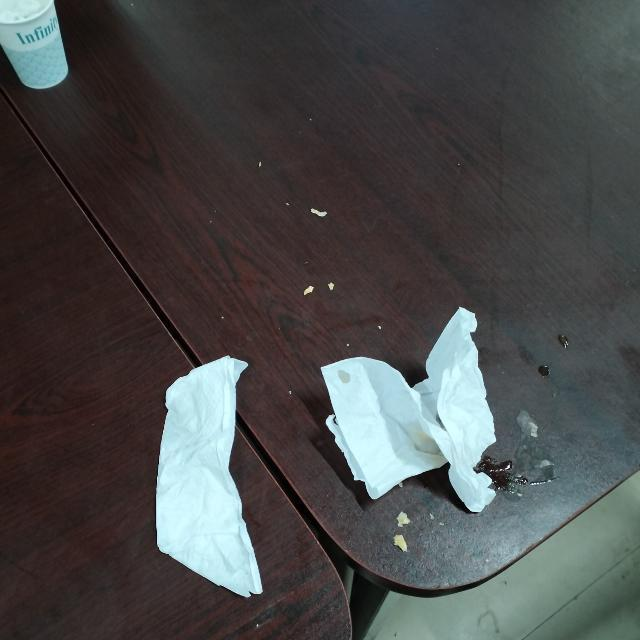kitchen paper: (314, 302, 501, 516), (149, 351, 269, 601)
